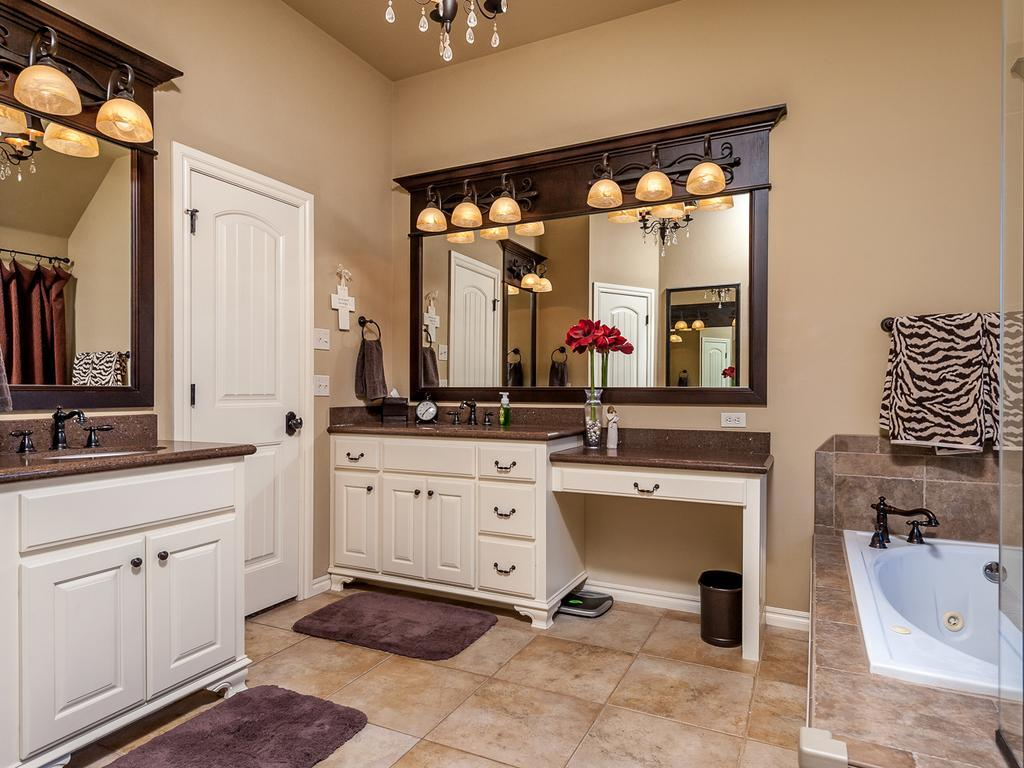door: (220, 205, 302, 595), (452, 271, 498, 383), (603, 298, 648, 380), (702, 340, 732, 388)
handle: (289, 407, 305, 436)
